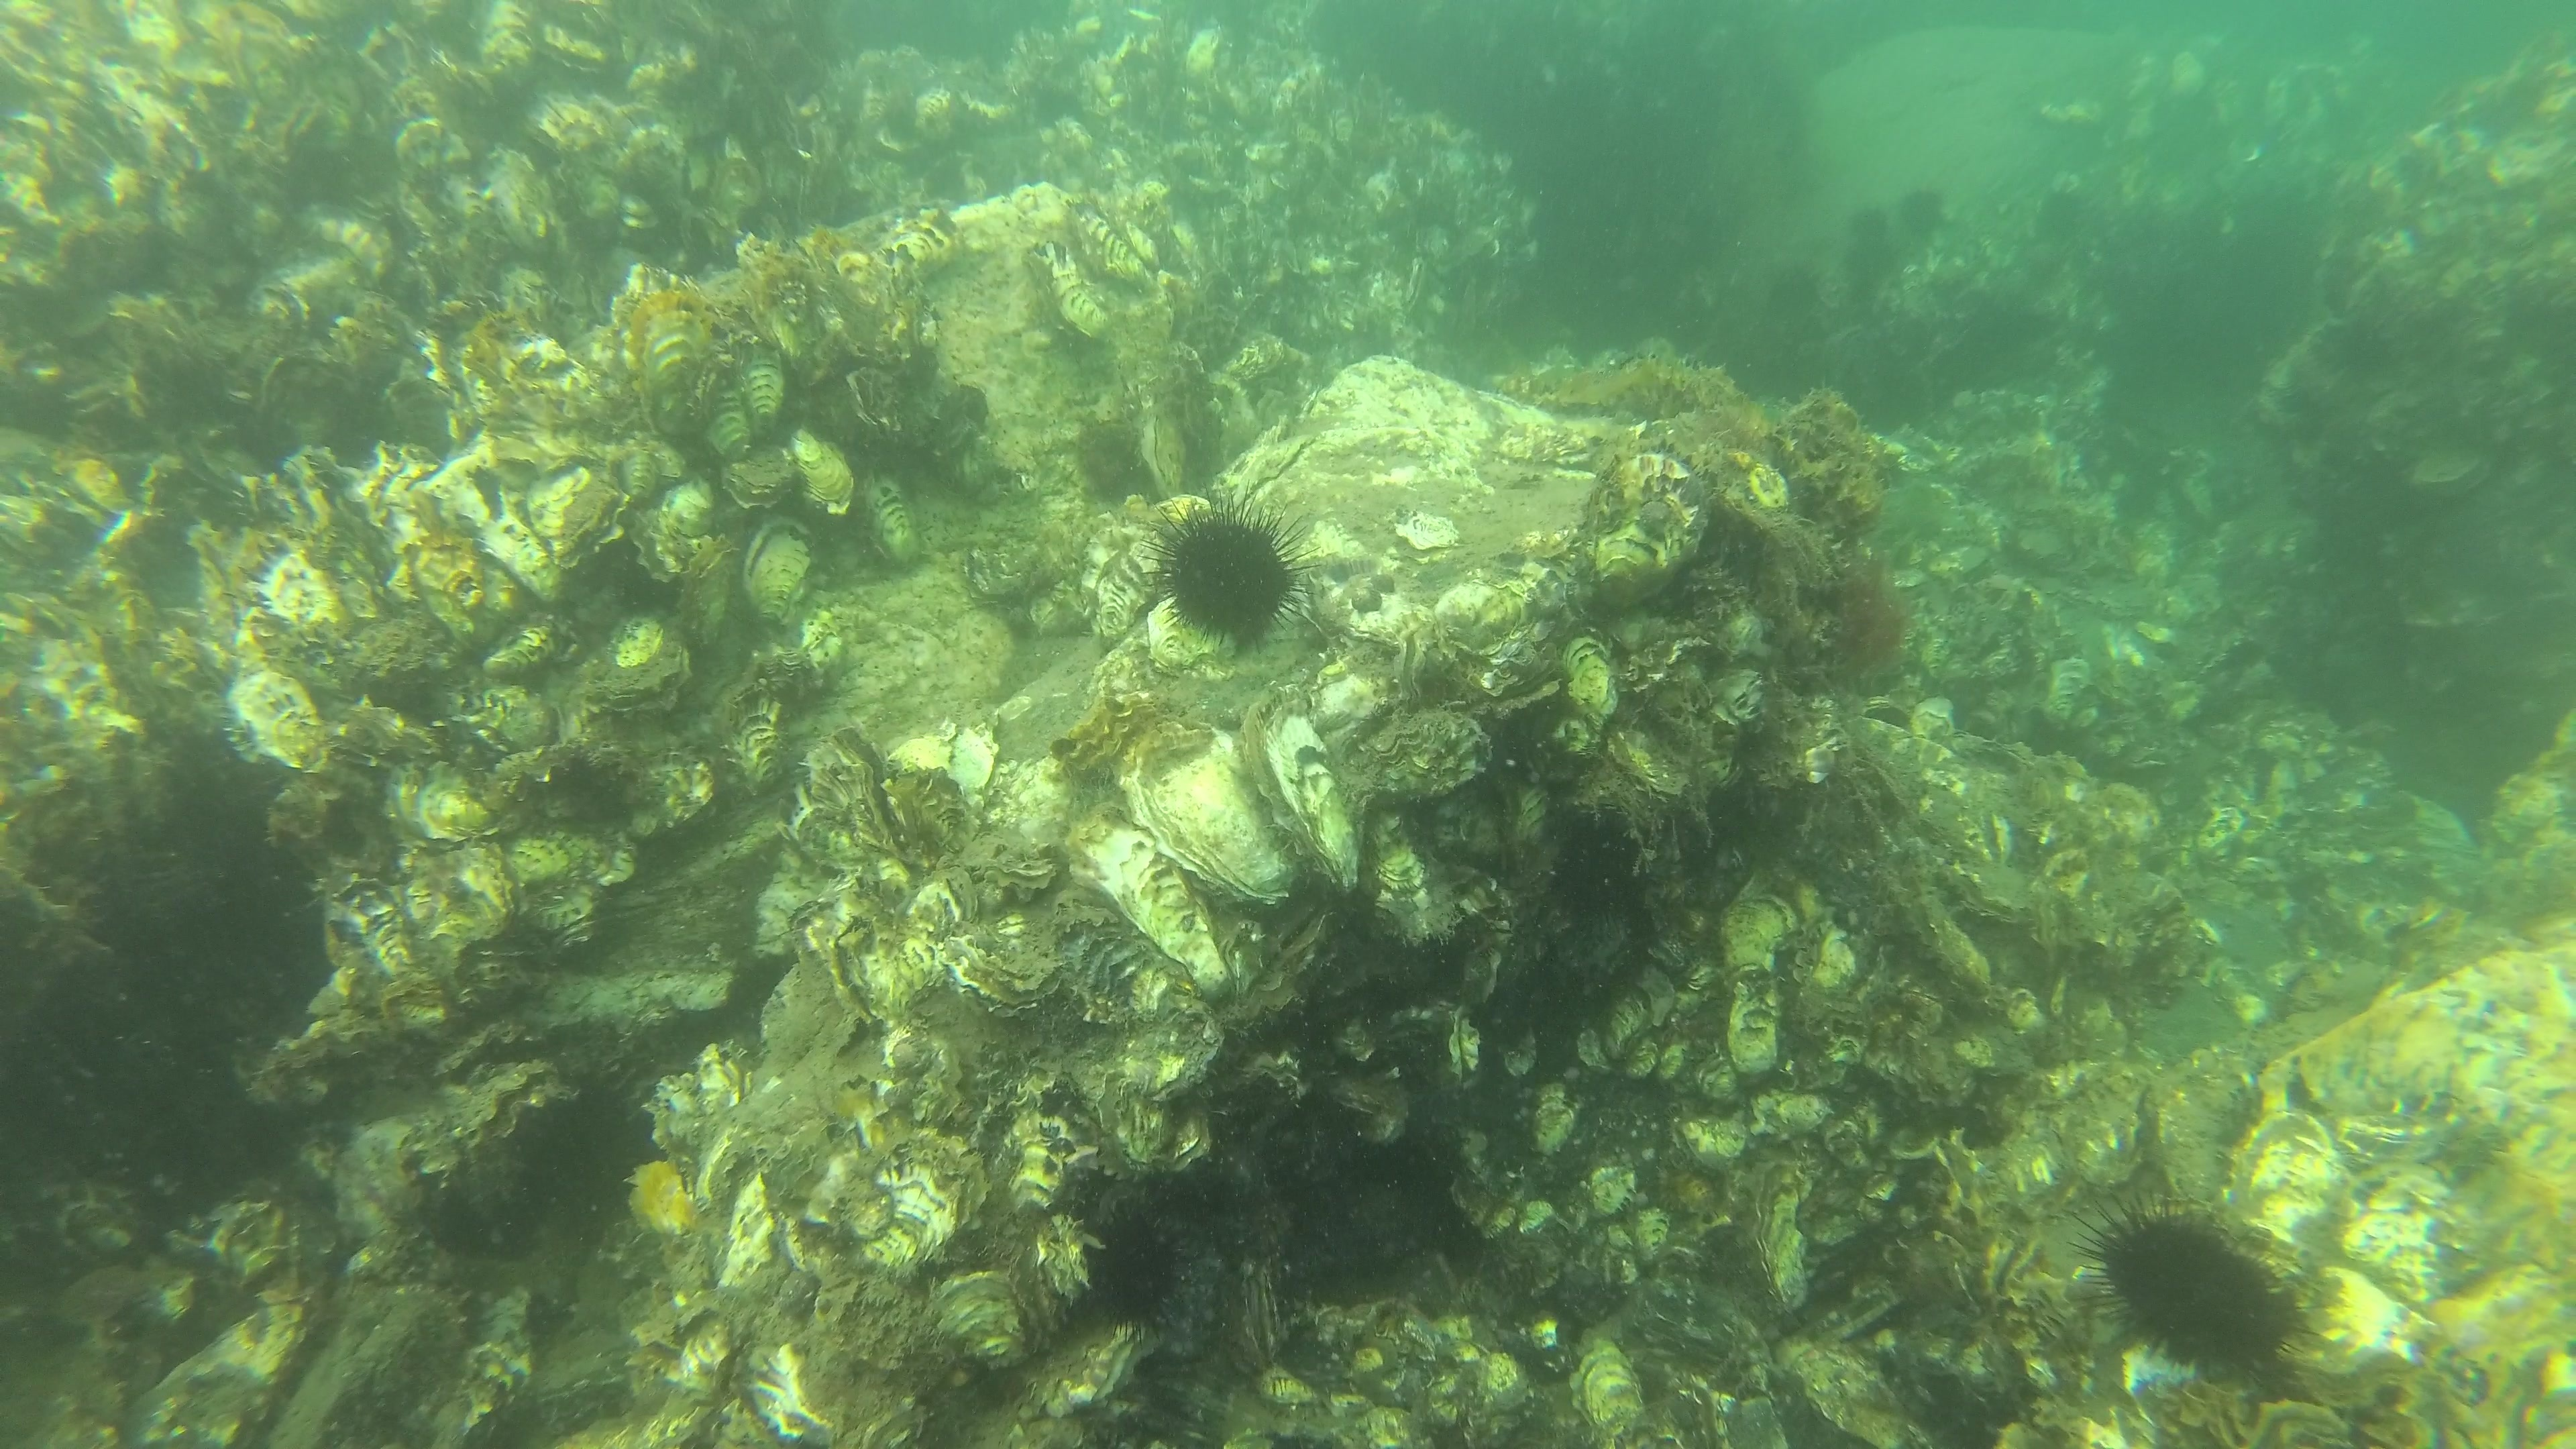echinus: (2066, 1180, 2307, 1394), (1145, 479, 1306, 655), (1074, 1215, 1207, 1350), (1748, 265, 1815, 327), (1833, 191, 1898, 253), (2031, 177, 2098, 237), (1840, 237, 1907, 297), (1897, 177, 1962, 237)
